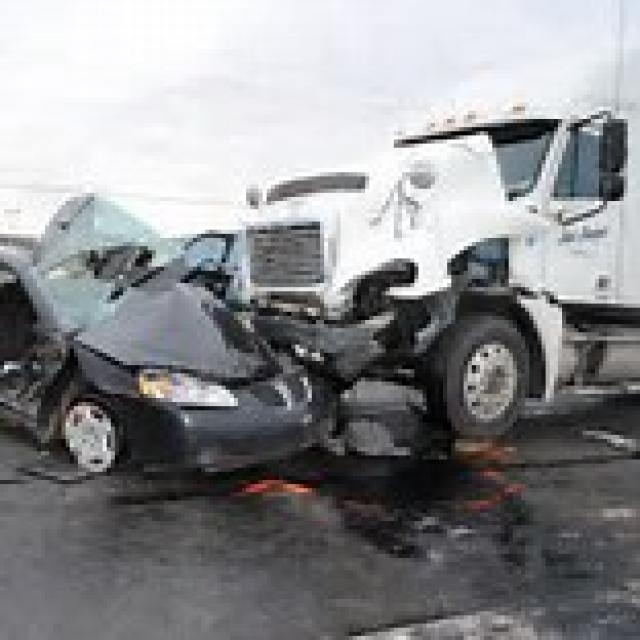Accident: (56, 103, 640, 517)
